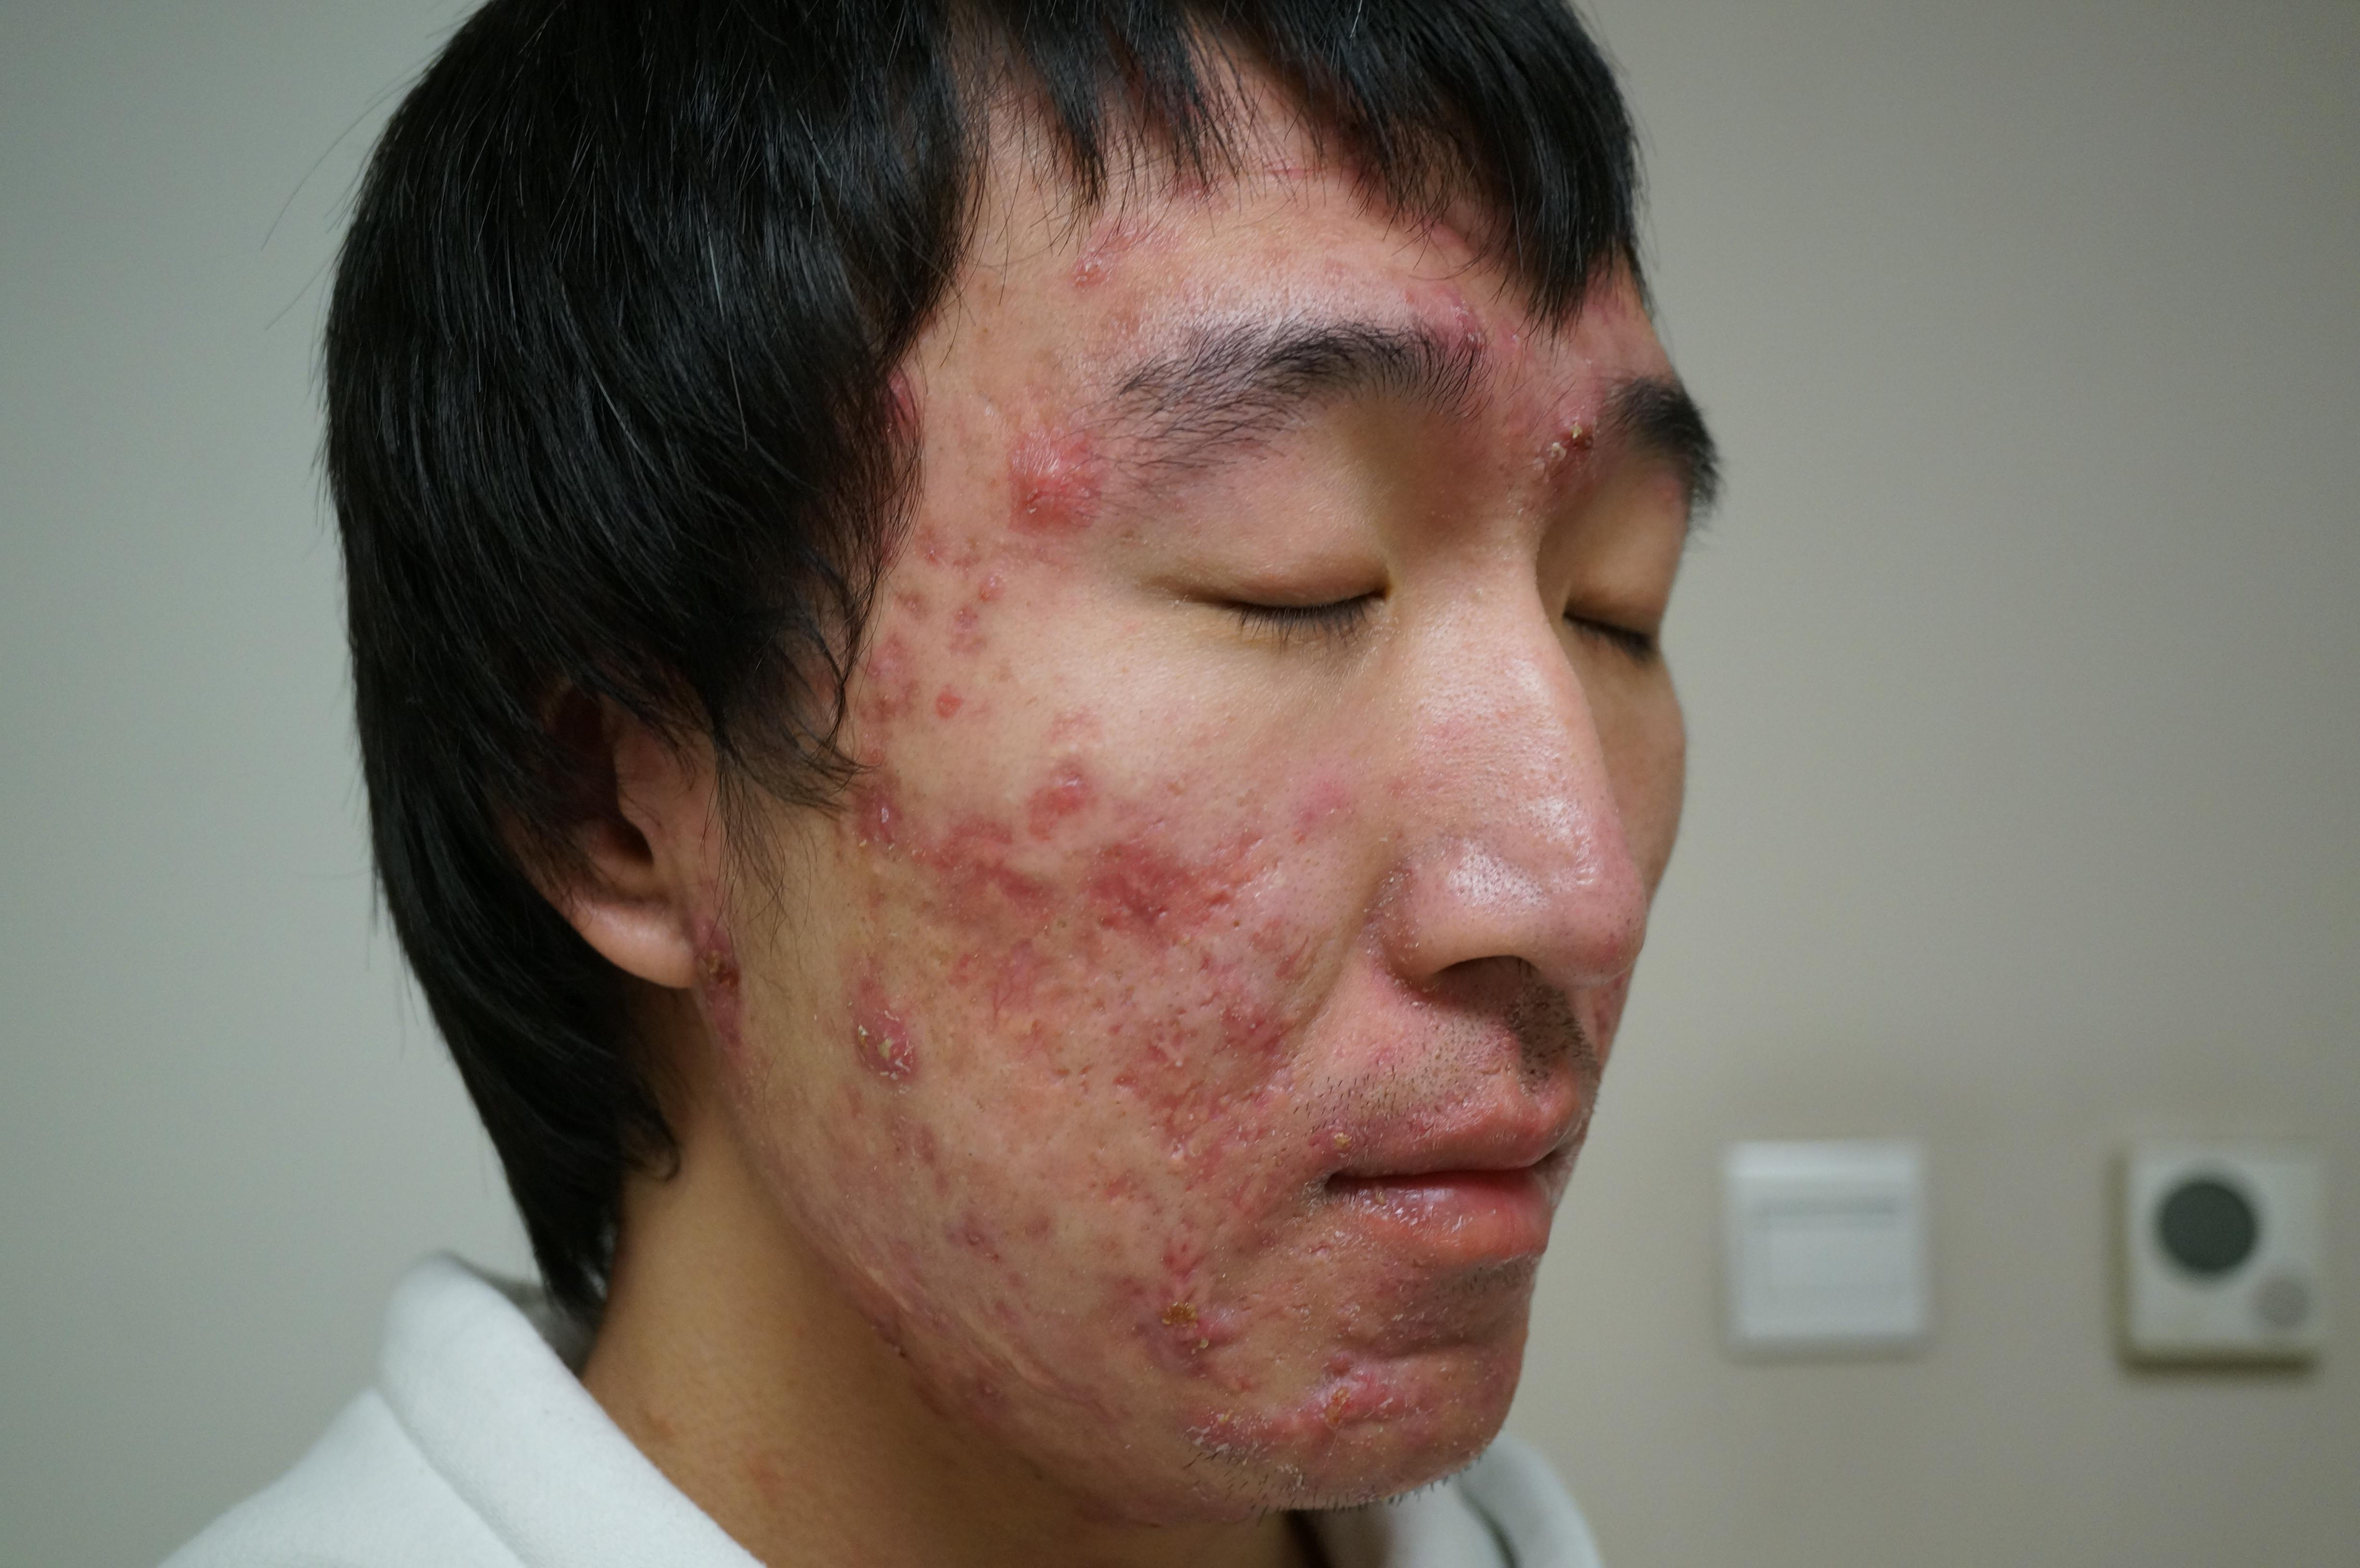fore: (1181, 808, 1281, 933), (1009, 437, 1097, 549), (841, 983, 929, 1092), (1496, 401, 1604, 485), (1209, 1136, 1300, 1232), (854, 777, 957, 856), (1137, 1283, 1228, 1368), (866, 625, 950, 717), (1027, 686, 1128, 761), (1016, 752, 1106, 836), (1277, 756, 1361, 845), (985, 1179, 1081, 1256), (859, 364, 945, 450), (995, 1340, 1093, 1409), (929, 1197, 1022, 1267), (932, 581, 1029, 646), (1281, 1382, 1403, 1433), (1177, 1384, 1246, 1475), (953, 812, 1029, 892), (1295, 1106, 1373, 1179), (702, 933, 758, 1036), (1205, 983, 1277, 1064), (1415, 208, 1499, 275), (1265, 1431, 1349, 1496), (1037, 1050, 1114, 1118), (880, 1213, 946, 1291), (848, 1253, 920, 1325), (1085, 1158, 1162, 1223), (1113, 845, 1181, 917), (1421, 306, 1484, 381), (1106, 1017, 1184, 1076), (1093, 957, 1165, 1022), (1041, 201, 1100, 278), (859, 1328, 931, 1389), (1008, 856, 1072, 920), (1270, 996, 1337, 1059), (1573, 271, 1634, 339), (876, 1116, 957, 1167), (815, 731, 896, 782), (1240, 913, 1300, 980), (847, 856, 908, 919), (924, 681, 985, 744), (878, 579, 945, 637), (1394, 1360, 1450, 1428), (945, 957, 1013, 1011), (1169, 159, 1230, 219), (955, 1353, 1006, 1424), (1093, 290, 1151, 353), (908, 1372, 964, 1437), (1022, 332, 1088, 387), (899, 518, 969, 569), (1013, 920, 1076, 977), (976, 1284, 1044, 1335), (1088, 1211, 1148, 1269), (1216, 1073, 1277, 1129), (1384, 1424, 1464, 1466), (1174, 938, 1239, 983), (1144, 1080, 1197, 1136), (1324, 1293, 1380, 1346), (973, 261, 1025, 317), (1307, 1344, 1366, 1389), (992, 1001, 1046, 1050), (1111, 194, 1151, 256), (1137, 1244, 1197, 1283)
